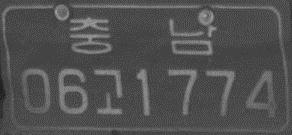0: (20, 67, 51, 116)
1: (130, 67, 160, 117)
4: (244, 70, 278, 119)
6: (57, 68, 89, 115)
7: (205, 69, 237, 116), (167, 68, 197, 117)
고: (93, 67, 125, 115)
충남_D: (69, 15, 215, 55)
